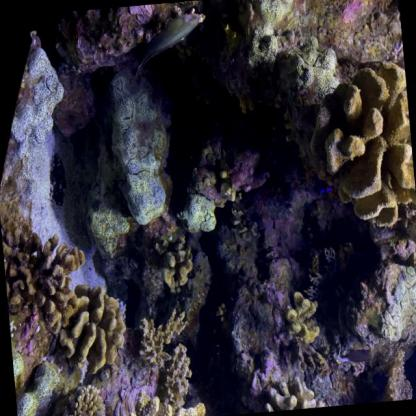fish: (127, 10, 208, 78), (340, 347, 372, 365)
